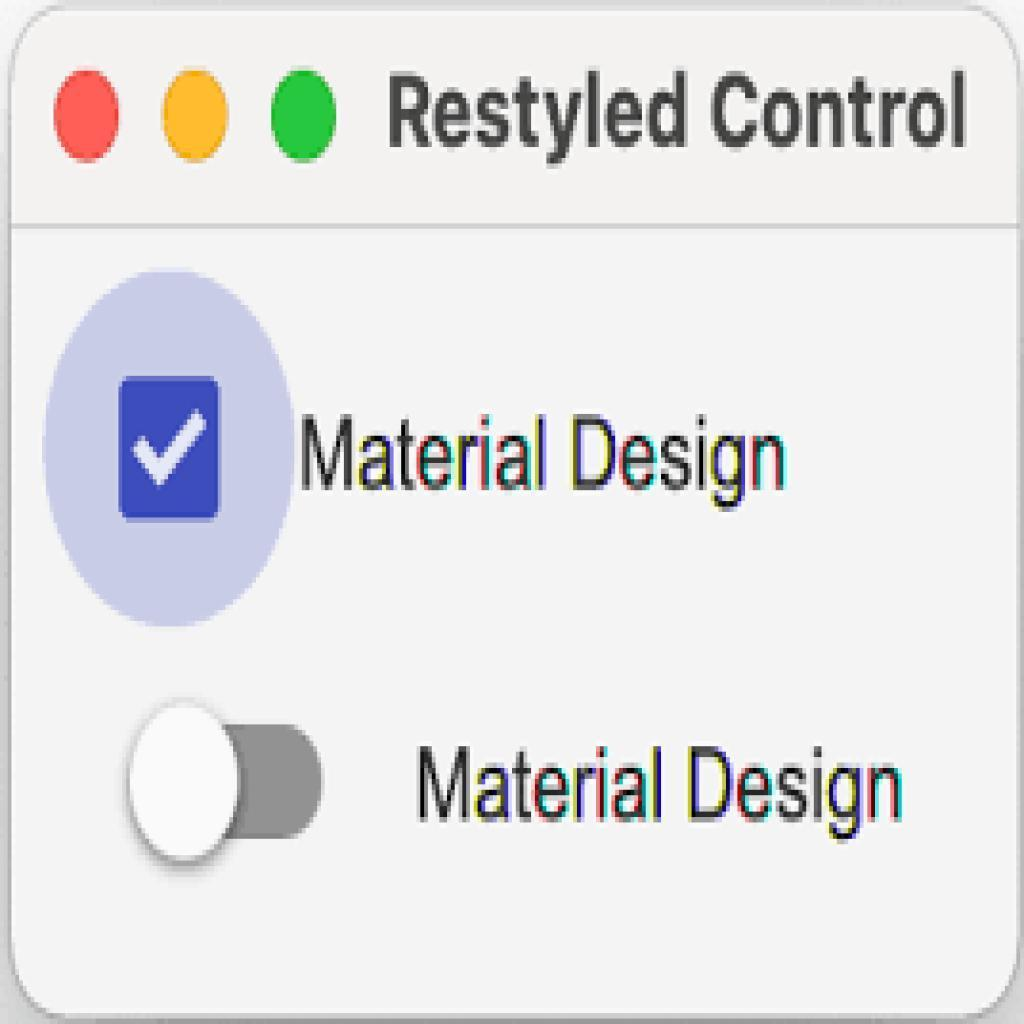checkbox: (122, 379, 223, 522)
label: (384, 65, 969, 166), (421, 741, 905, 852), (301, 408, 786, 515)
switch: (124, 701, 325, 868)
